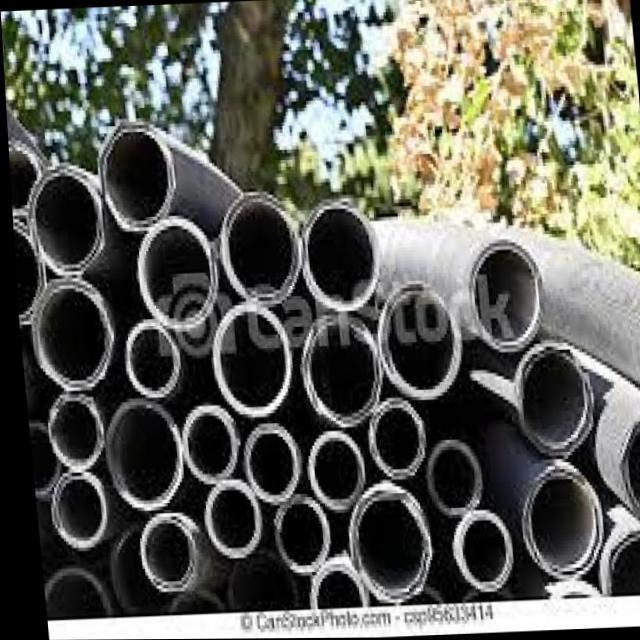pipe: (342, 482, 424, 606), (510, 340, 594, 461), (373, 280, 458, 399), (294, 313, 377, 431), (216, 190, 298, 307), (134, 216, 215, 332), (206, 305, 287, 421), (516, 463, 599, 576), (28, 279, 109, 393), (99, 398, 178, 512), (298, 200, 377, 313), (462, 238, 540, 352), (95, 121, 173, 231), (21, 167, 98, 277), (100, 524, 163, 614), (362, 395, 421, 480), (445, 510, 504, 594), (421, 433, 478, 518), (301, 431, 359, 513), (196, 479, 255, 558), (132, 514, 190, 593), (267, 493, 323, 573), (239, 422, 294, 502), (178, 402, 232, 483), (122, 320, 177, 399), (44, 394, 98, 474), (44, 477, 101, 552), (221, 551, 291, 609), (591, 529, 640, 594), (303, 556, 362, 608), (614, 418, 640, 525)
